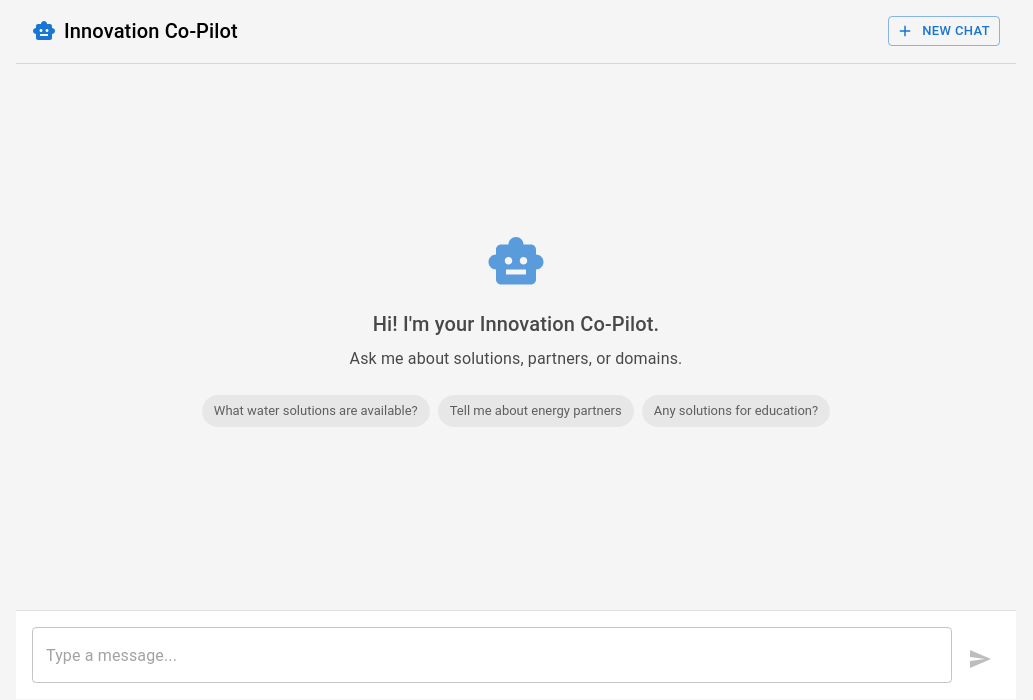
Test case: AiChatView › sends message and displays user message
Type "Hello AI" into the text box with placeholder "Type a message..." at (492, 655), box [46, 644, 938, 666]
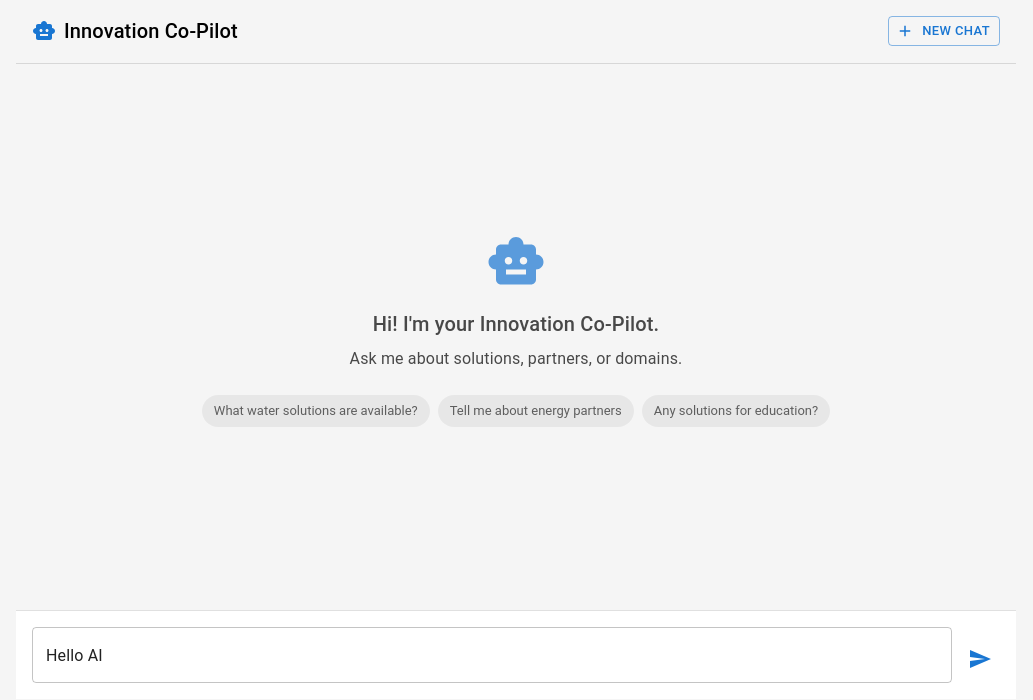
Note: Actually, let's just press Enter.
Press Enter in the text box with placeholder "Type a message...", box [46, 644, 938, 666]
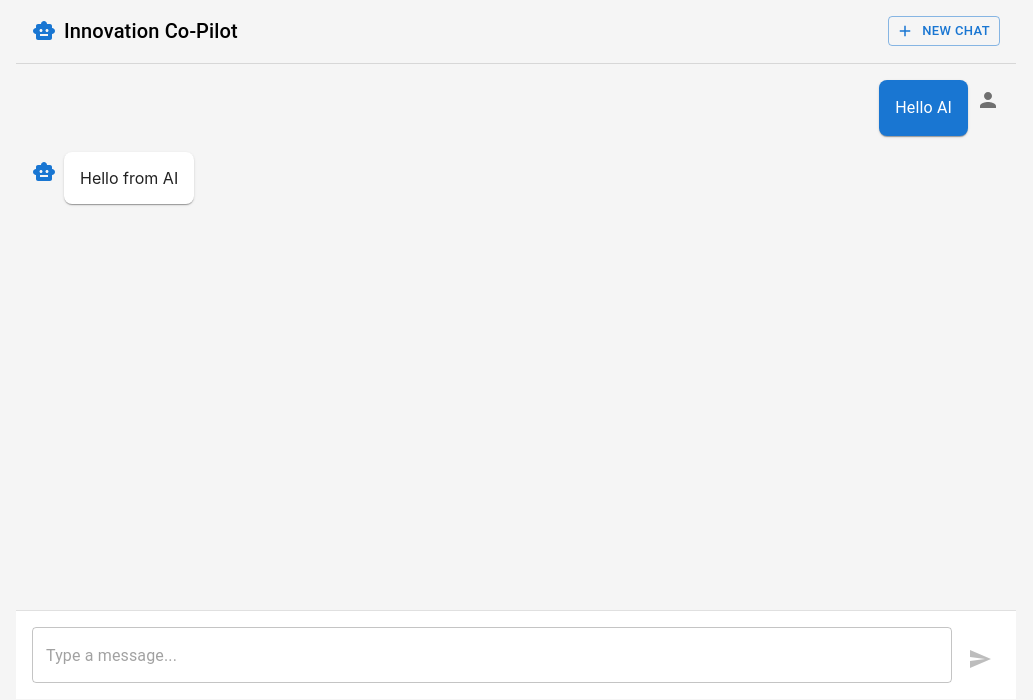
expect the text "Hello AI" is shown: met, box [895, 96, 952, 120]
expect the text "Hello from AI" is shown: met, box [80, 168, 178, 188]
